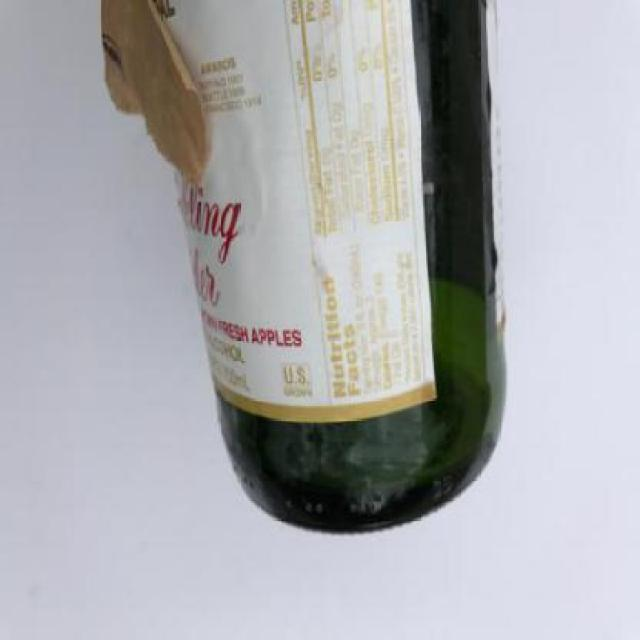glass: (159, 3, 506, 535)
